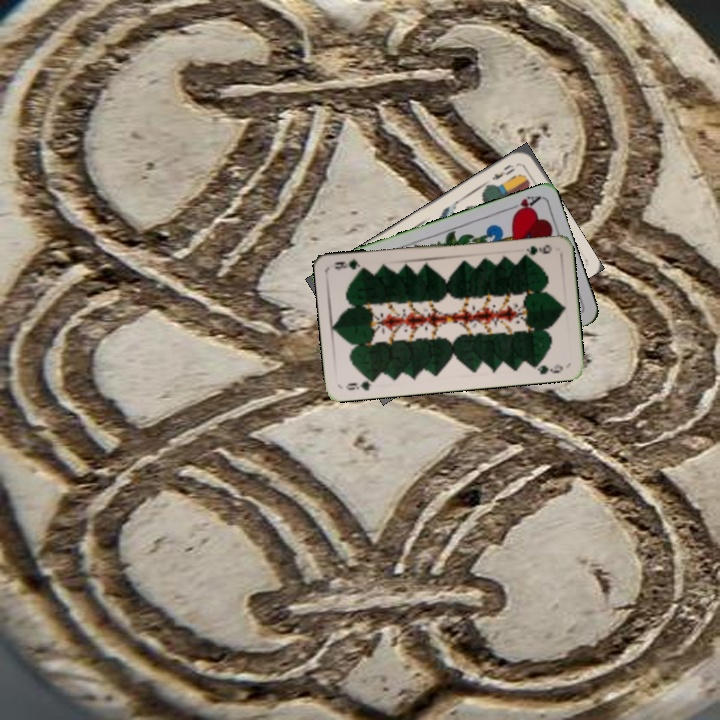EO: (488, 160, 518, 183)
G9: (342, 374, 380, 393), (522, 240, 554, 258)
HA: (503, 192, 542, 218)
